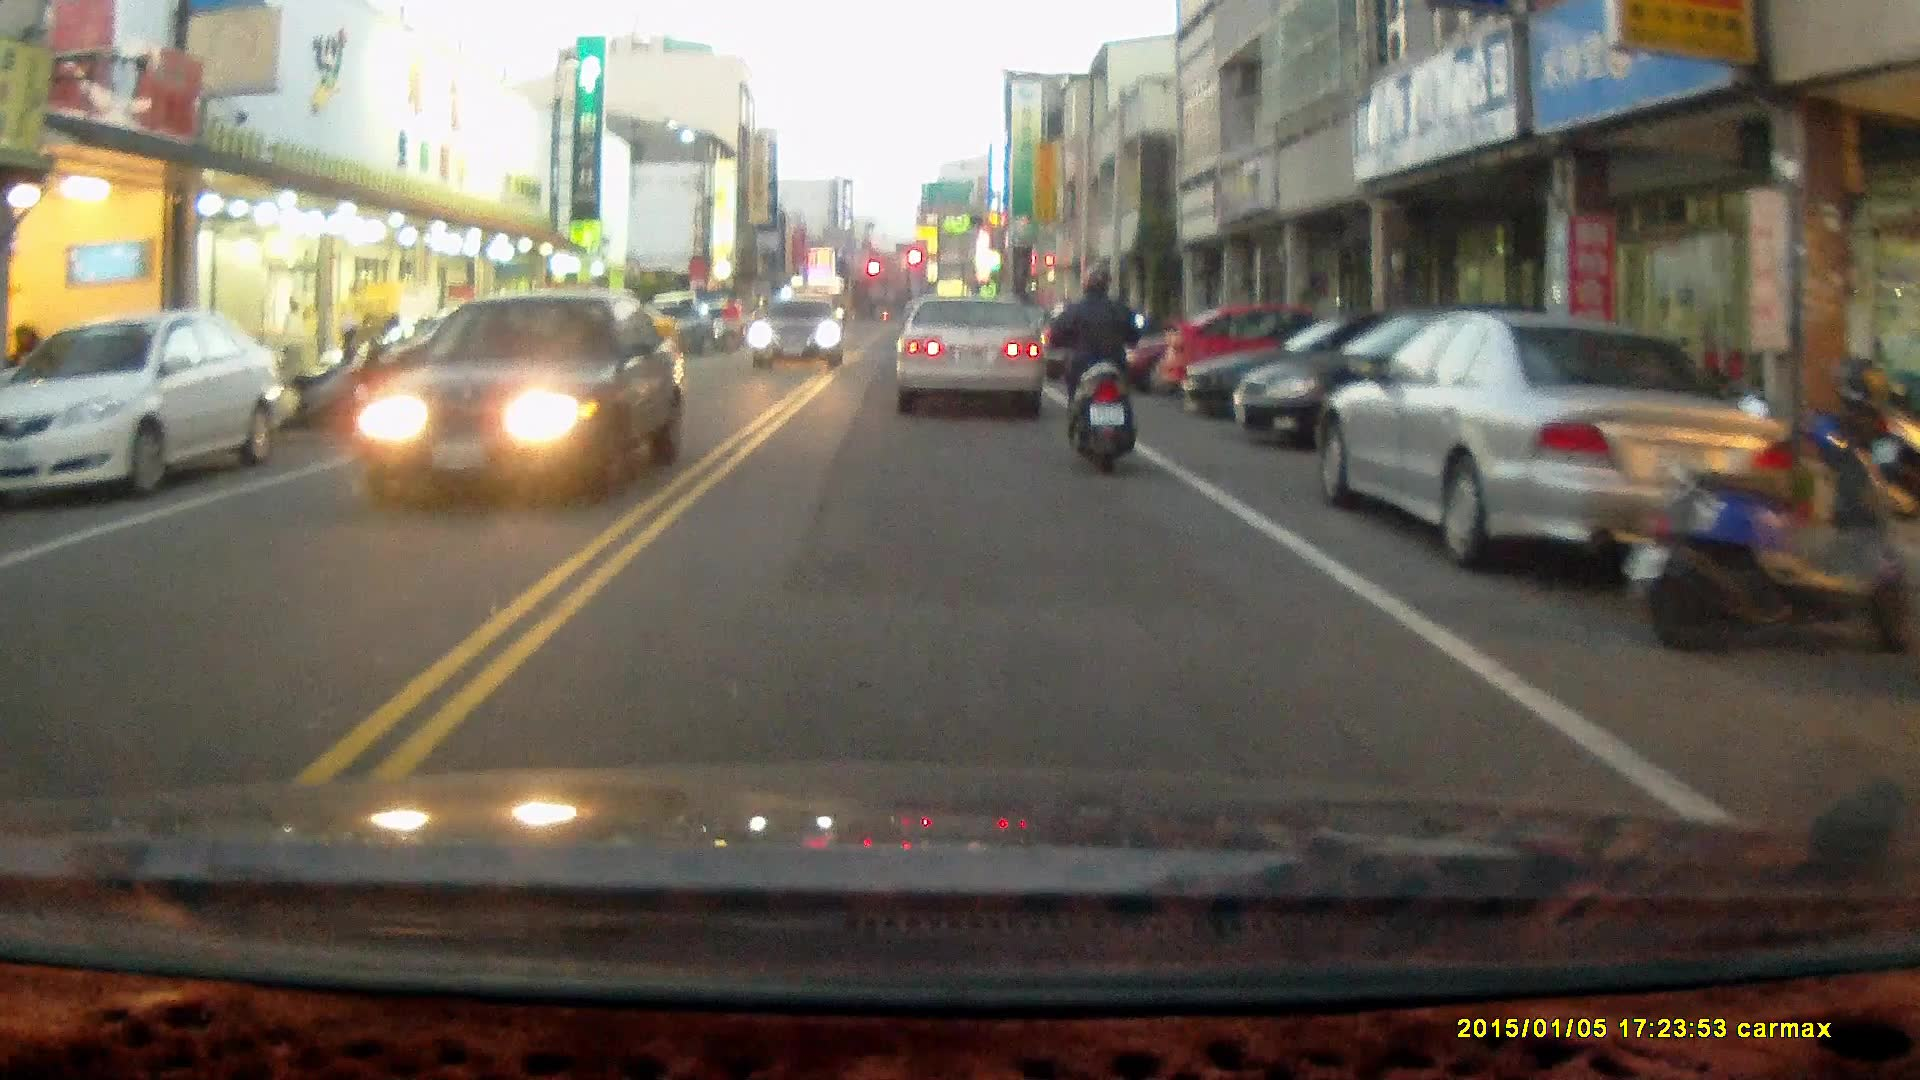pedestrian: (279, 294, 309, 368)
rider: (1046, 258, 1147, 467), (716, 290, 741, 354)
vehicle: (1324, 306, 1796, 570), (356, 289, 690, 506), (0, 310, 300, 505), (1231, 299, 1588, 444), (1177, 308, 1522, 423), (1158, 298, 1410, 398), (896, 294, 1048, 414), (748, 296, 847, 368)
